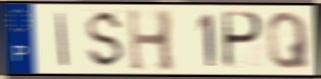1: (197, 13, 217, 68)
H: (125, 7, 177, 73)
I: (56, 11, 70, 68)
P: (221, 10, 265, 71)
Q: (265, 10, 312, 71)
S: (85, 9, 127, 71)
